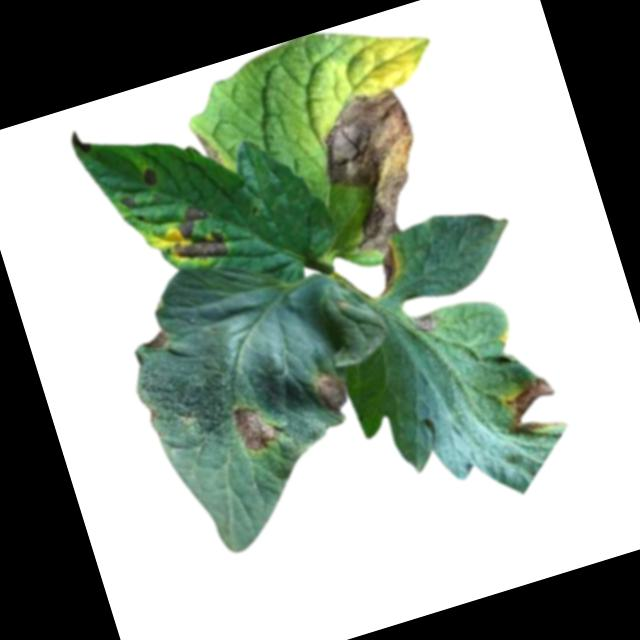Early_blight: (316, 83, 445, 258), (161, 198, 232, 271), (495, 375, 569, 444), (227, 397, 283, 457), (308, 368, 353, 418), (369, 244, 406, 295), (194, 126, 221, 170), (140, 329, 172, 354), (67, 126, 92, 158), (138, 166, 161, 190), (412, 313, 437, 335), (118, 197, 136, 214)
